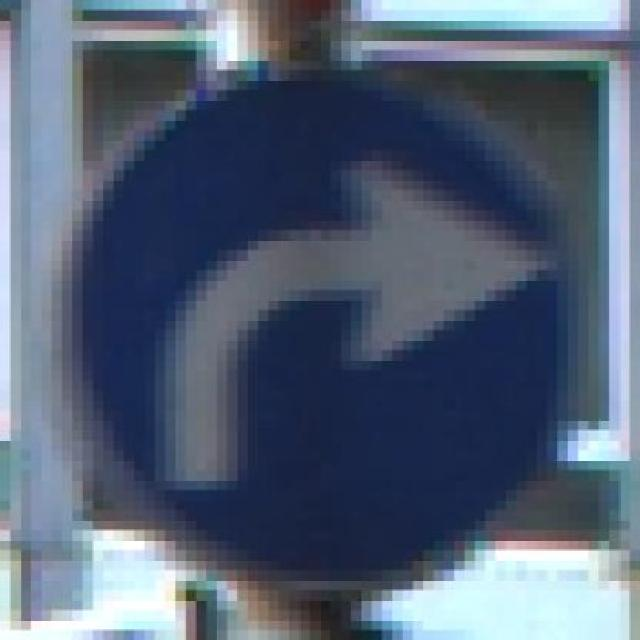Turn right ahead: (51, 60, 578, 580)
